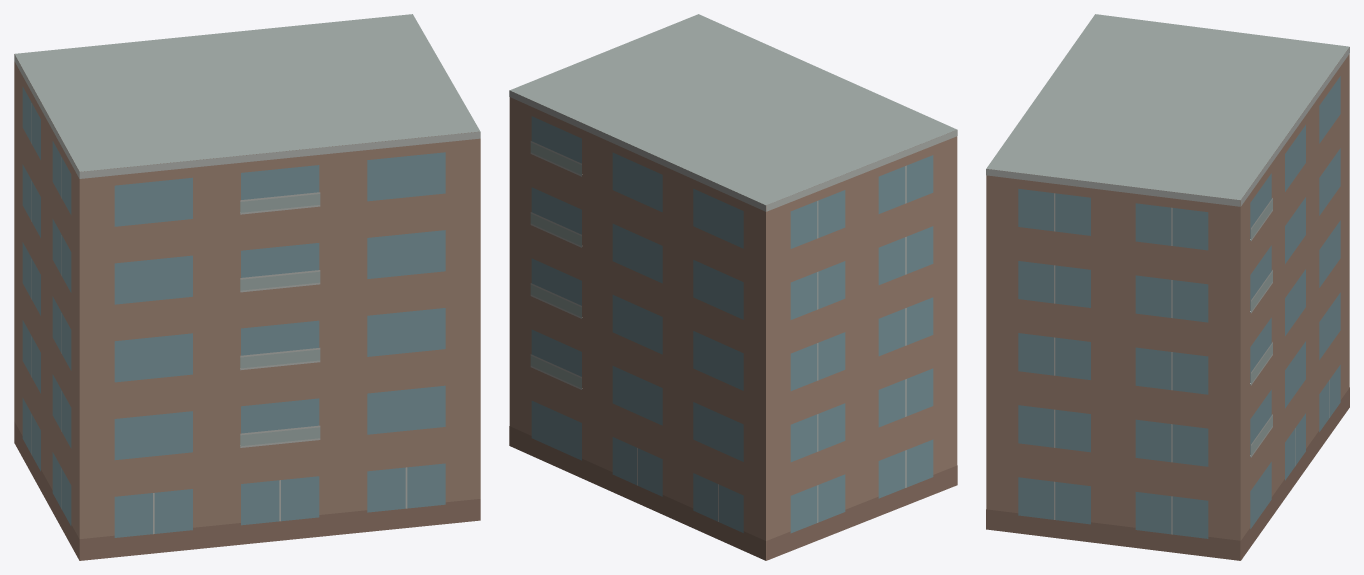
The model's file is survey-upis-32873369.glb.
3 renders of one model, left to right at view 1: azimuth 30°, elevation 25°; view 2: azimuth 150°, elevation 25°; view 3: azimuth 270°, elevation 25°, orthographic. The views are drawn at different scales.
Visible parts, largest first — view 1: survey-upis-32873369.tmp; view 2: survey-upis-32873369.tmp; view 3: survey-upis-32873369.tmp.
Boxes of the visible parts, x1,y1,x2,y2 form: survey-upis-32873369.tmp: (14, 14, 480, 560); survey-upis-32873369.tmp: (509, 14, 957, 560); survey-upis-32873369.tmp: (986, 14, 1349, 560).
Bounding box in the file's own units: 14.74 × 13.3 × 12.17.
